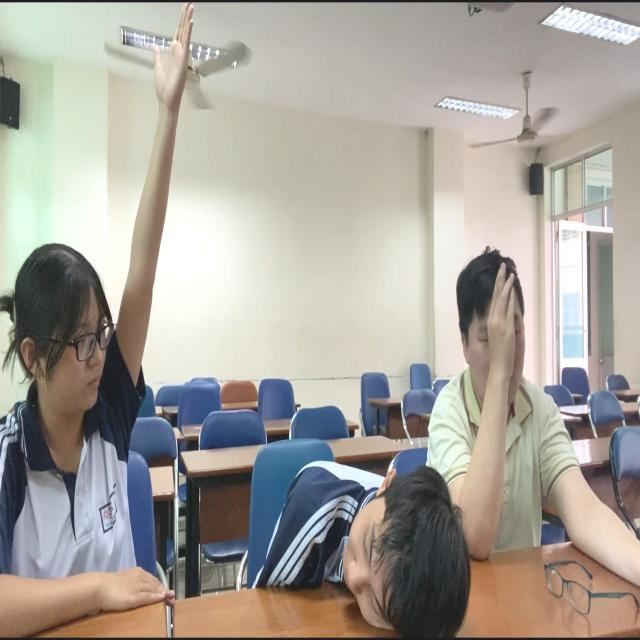raise_hand: (1, 1, 202, 640), (427, 238, 621, 640)
sleep: (240, 417, 475, 640)
